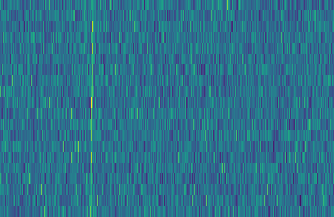signal: (153, 0, 180, 217)
